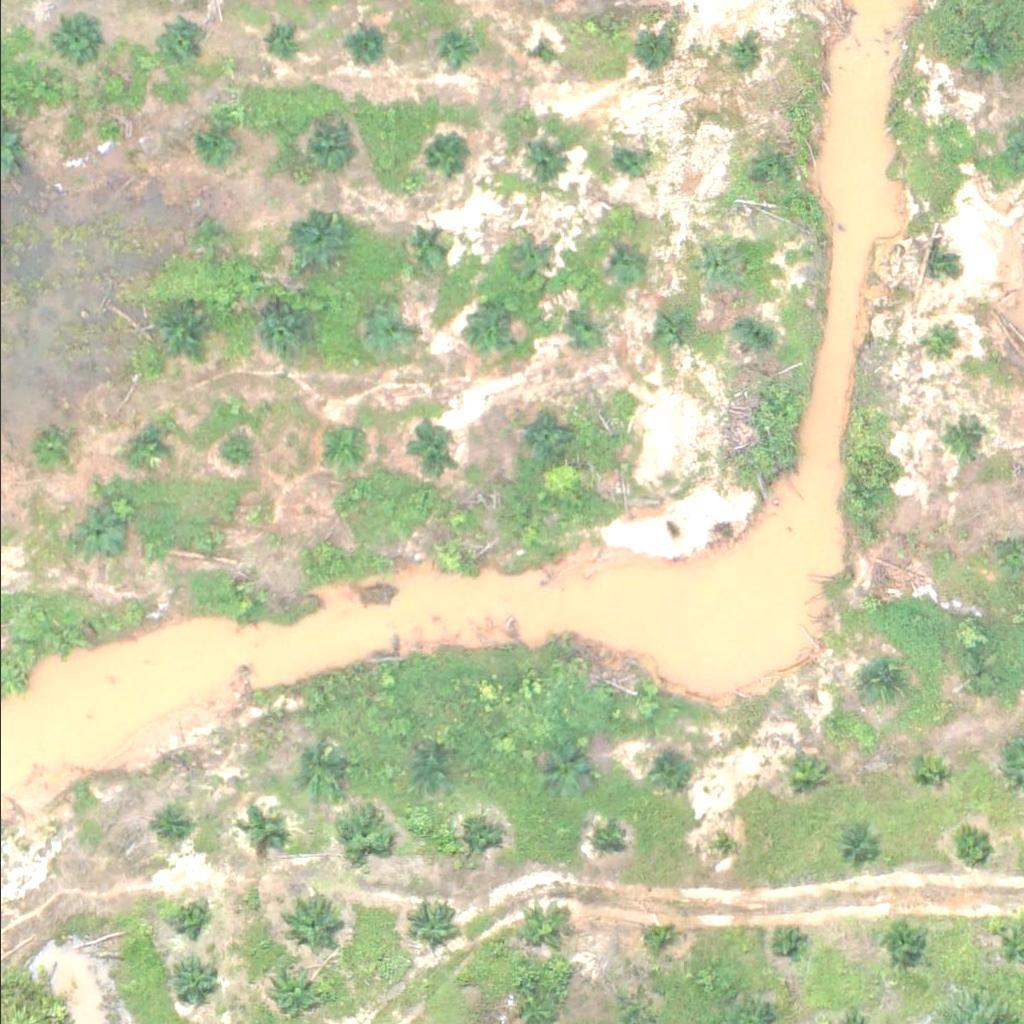Kelapa_Sawit: (287, 205, 350, 268), (351, 302, 414, 365), (262, 960, 325, 1023), (280, 894, 343, 956), (256, 309, 307, 359), (153, 308, 204, 358), (51, 14, 102, 64), (121, 419, 172, 469), (515, 903, 566, 953), (776, 749, 827, 799), (302, 121, 353, 171), (421, 133, 472, 183), (466, 310, 516, 360), (70, 509, 120, 559), (445, 811, 495, 861), (336, 809, 386, 859), (403, 898, 453, 948), (167, 958, 217, 1008), (402, 423, 452, 473), (312, 421, 362, 471), (881, 917, 931, 967), (537, 745, 587, 795), (517, 414, 567, 464), (954, 23, 1004, 73), (286, 747, 336, 797), (44, 618, 82, 656), (33, 430, 71, 468), (243, 808, 281, 846), (152, 809, 190, 847), (169, 896, 207, 934), (192, 522, 230, 560), (305, 532, 343, 570), (430, 538, 468, 576), (648, 749, 686, 787), (726, 36, 764, 74), (340, 30, 378, 68), (260, 24, 298, 62), (612, 148, 650, 186), (570, 316, 608, 354), (657, 316, 695, 354), (732, 315, 770, 353), (196, 124, 234, 162), (230, 586, 268, 623), (905, 752, 942, 790), (410, 749, 448, 786), (941, 418, 979, 455), (959, 659, 996, 697), (956, 832, 994, 869), (917, 322, 955, 359), (632, 26, 669, 64), (516, 35, 553, 73), (432, 32, 469, 70), (529, 144, 566, 182), (732, 159, 770, 196), (695, 244, 733, 281), (603, 249, 641, 286), (507, 239, 545, 276), (190, 220, 228, 257), (164, 21, 202, 58), (212, 432, 249, 469), (833, 828, 870, 865), (861, 660, 898, 697), (404, 230, 441, 267), (923, 245, 949, 270), (775, 929, 800, 954), (645, 922, 670, 947), (706, 834, 731, 859), (594, 828, 619, 853)
